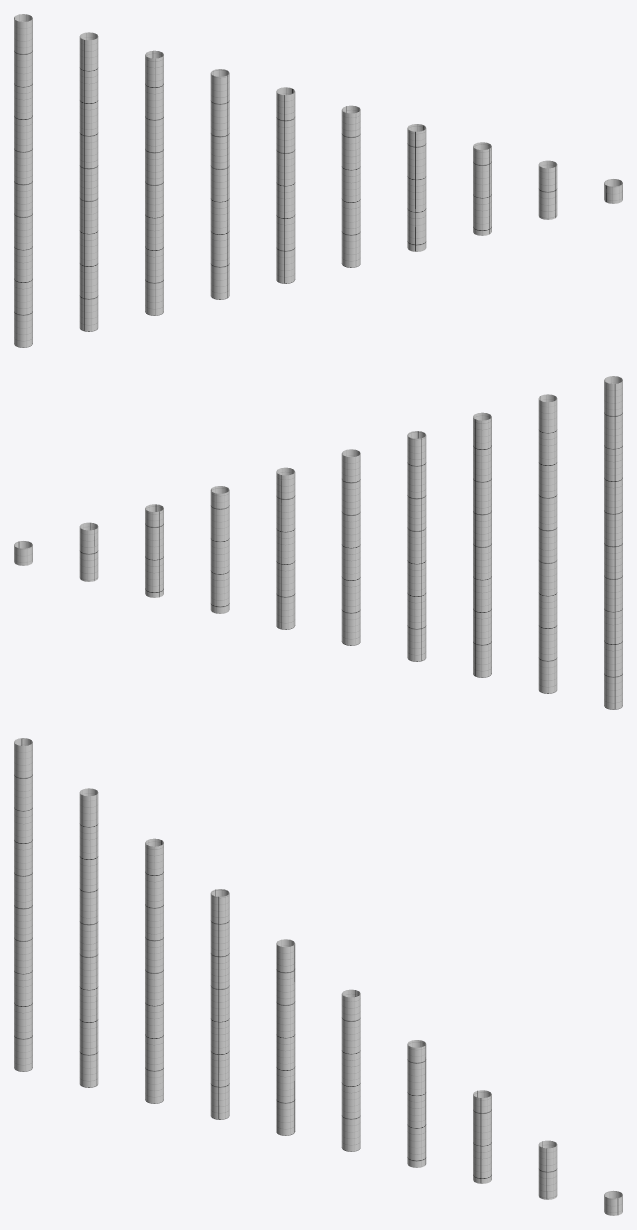
The model's file is Tile_Stairs_Support_Creshendo_4x4x2.fbx.
3 renders of one model, top to bottom at view 1: azimuth 30°, elevation 25°; view 2: azimuth 150°, elevation 25°; view 3: azimuth 330°, elevation 25°, orthographic.
Parts seen in each view (by area): view 1: Tile_Stairs_Support_Creshendo_4x4x2; view 2: Tile_Stairs_Support_Creshendo_4x4x2; view 3: Tile_Stairs_Support_Creshendo_4x4x2.
Part boxes in pixels (<box>): Tile_Stairs_Support_Creshendo_4x4x2: <box>14,14,622,347</box>; Tile_Stairs_Support_Creshendo_4x4x2: <box>14,376,622,709</box>; Tile_Stairs_Support_Creshendo_4x4x2: <box>14,738,622,1215</box>.
Bounding box in the file's own units: 370 × 190 × 10.
